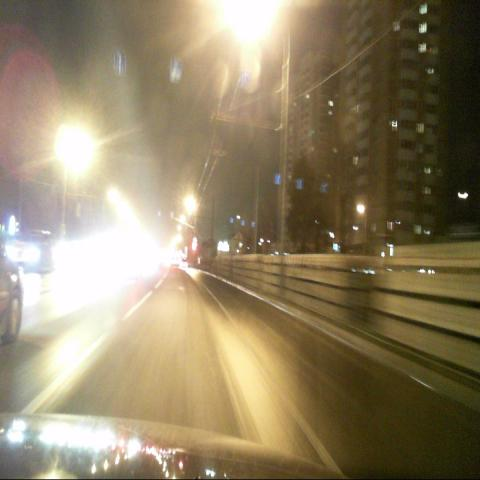5_15_2: (113, 50, 125, 72), (276, 172, 283, 184)
